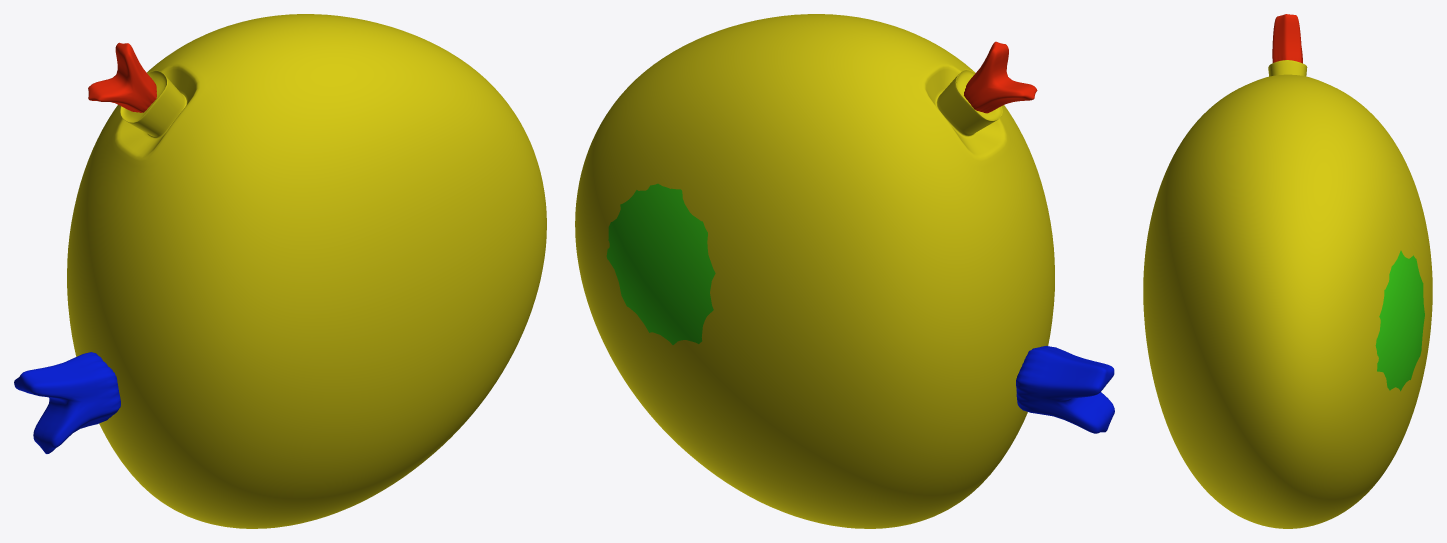
File: LinfoncitoTCD4Final.fbx
3 renders of one model, left to right at view 1: azimuth 30°, elevation 25°; view 2: azimuth 150°, elevation 25°; view 3: azimuth 270°, elevation 25°, orthographic. The views are drawn at different scales.
Parts seen in each view (by area): view 1: Cubo, Balas.001, Balas; view 2: Cubo, Cube, Balas.001, Balas; view 3: Cubo, Cube, Balas.
Boxes of the visible parts, x1,y1,x2,y2 form: Cubo: (67,14,546,528); Balas.001: (14,352,120,453); Balas: (88,42,156,112); Cubo: (575,14,1054,528); Cube: (606,183,715,344); Balas.001: (1016,346,1114,433); Balas: (964,41,1037,113); Cubo: (1143,60,1432,528); Cube: (1375,250,1424,391); Balas: (1272,14,1302,63).
Bounding box in the file's own units: 2.64 × 2.47 × 1.51.
